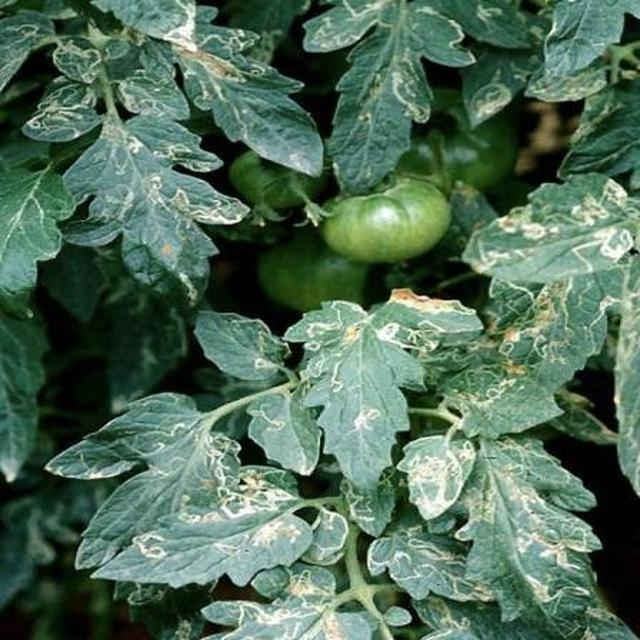Leaf Miner: (106, 108, 640, 640)
